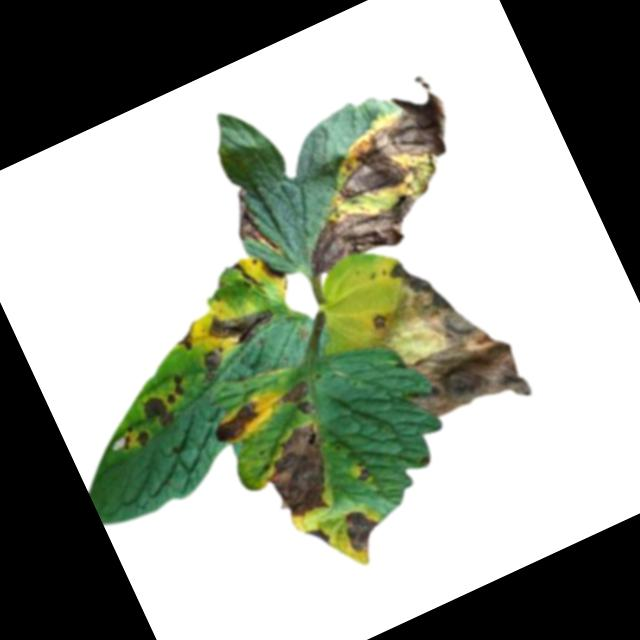Early_blight: (349, 231, 535, 446), (291, 71, 467, 218), (294, 175, 445, 282), (249, 415, 351, 527), (204, 292, 282, 358), (221, 182, 282, 264), (203, 394, 273, 451), (335, 498, 386, 555), (275, 379, 319, 425), (115, 418, 154, 455), (137, 392, 174, 430), (191, 348, 227, 382), (170, 324, 204, 358), (302, 521, 334, 553), (157, 373, 189, 405), (257, 257, 286, 287), (349, 456, 371, 484)
